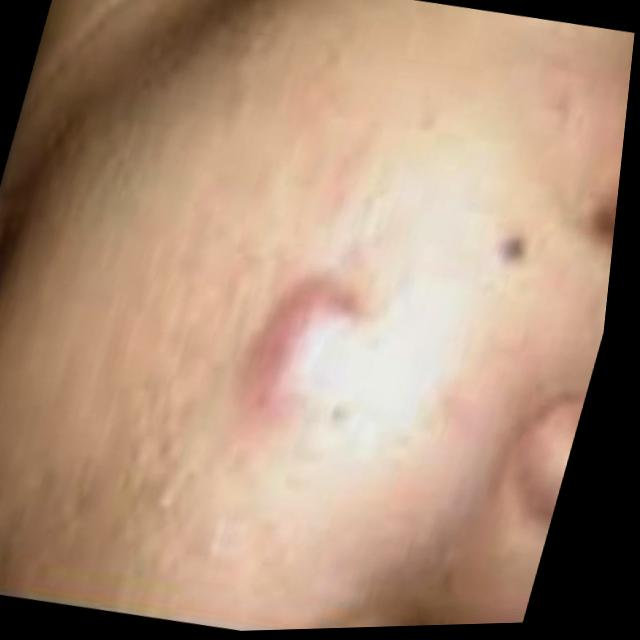nodule: (229, 267, 393, 448)
